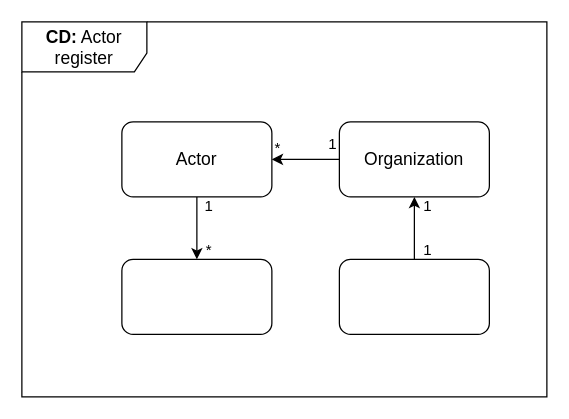
This 569x419 diagram has some shape labels left out. Here are the shapes that lost their labels. From the top down, the box of each, then its label:
(121, 258, 272, 334): GridArea
(338, 258, 489, 334): Contact
